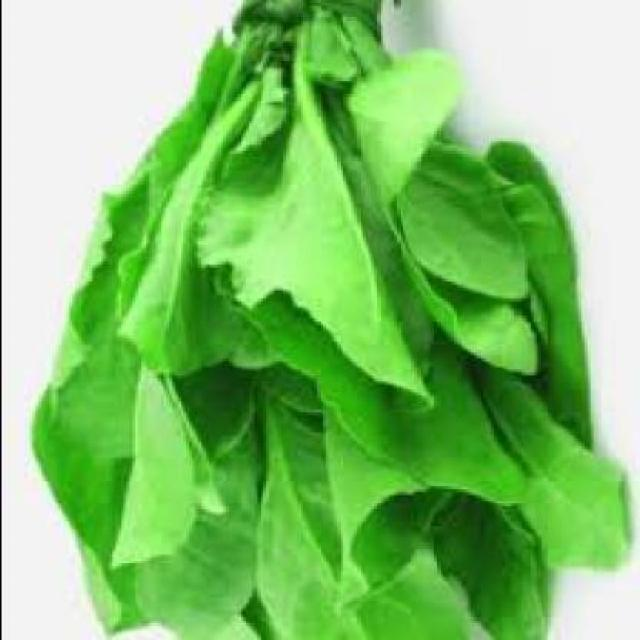BIODEGRADABLE: (19, 3, 626, 639)
